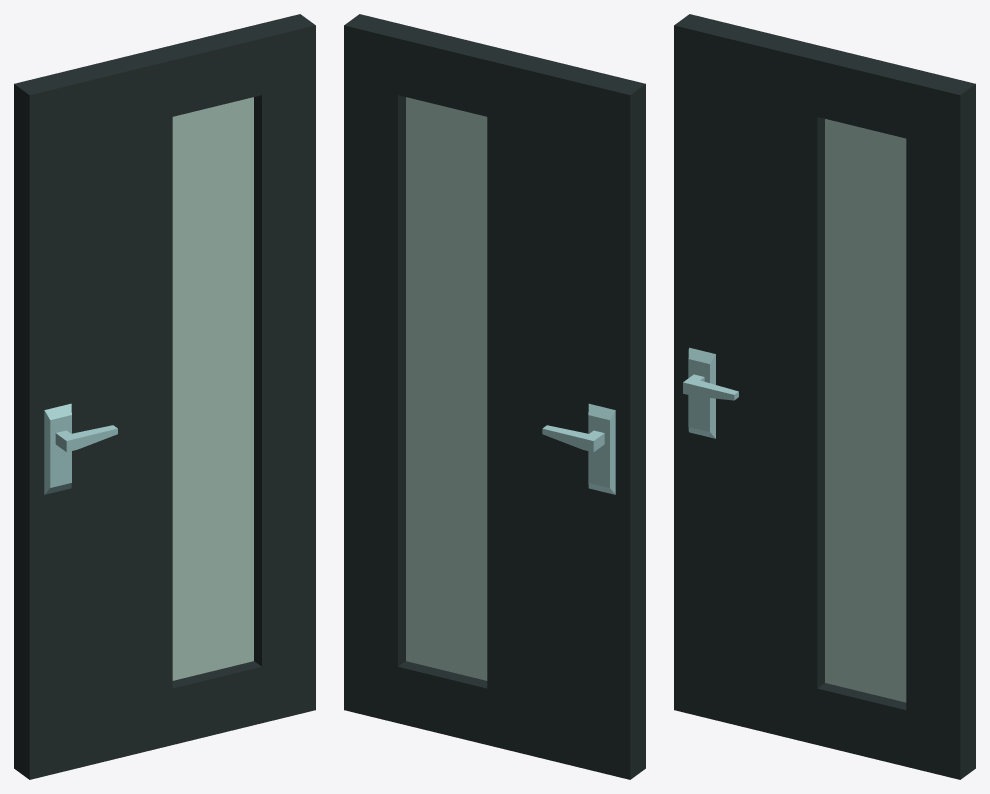
File: front-door-leaf.glb
3 renders of one model, left to right at view 1: azimuth 30°, elevation 25°; view 2: azimuth 150°, elevation 25°; view 3: azimuth 330°, elevation 25°, orthographic.
Visible parts, largest first — view 1: doorwayFront; view 2: doorwayFront; view 3: doorwayFront.
Boxes of the visible parts, <box> form: doorwayFront: <box>14,14,315,779</box>; doorwayFront: <box>344,14,645,779</box>; doorwayFront: <box>674,14,975,779</box>.
Bounding box in the file's own units: 4.29 × 9.81 × 1.13.
